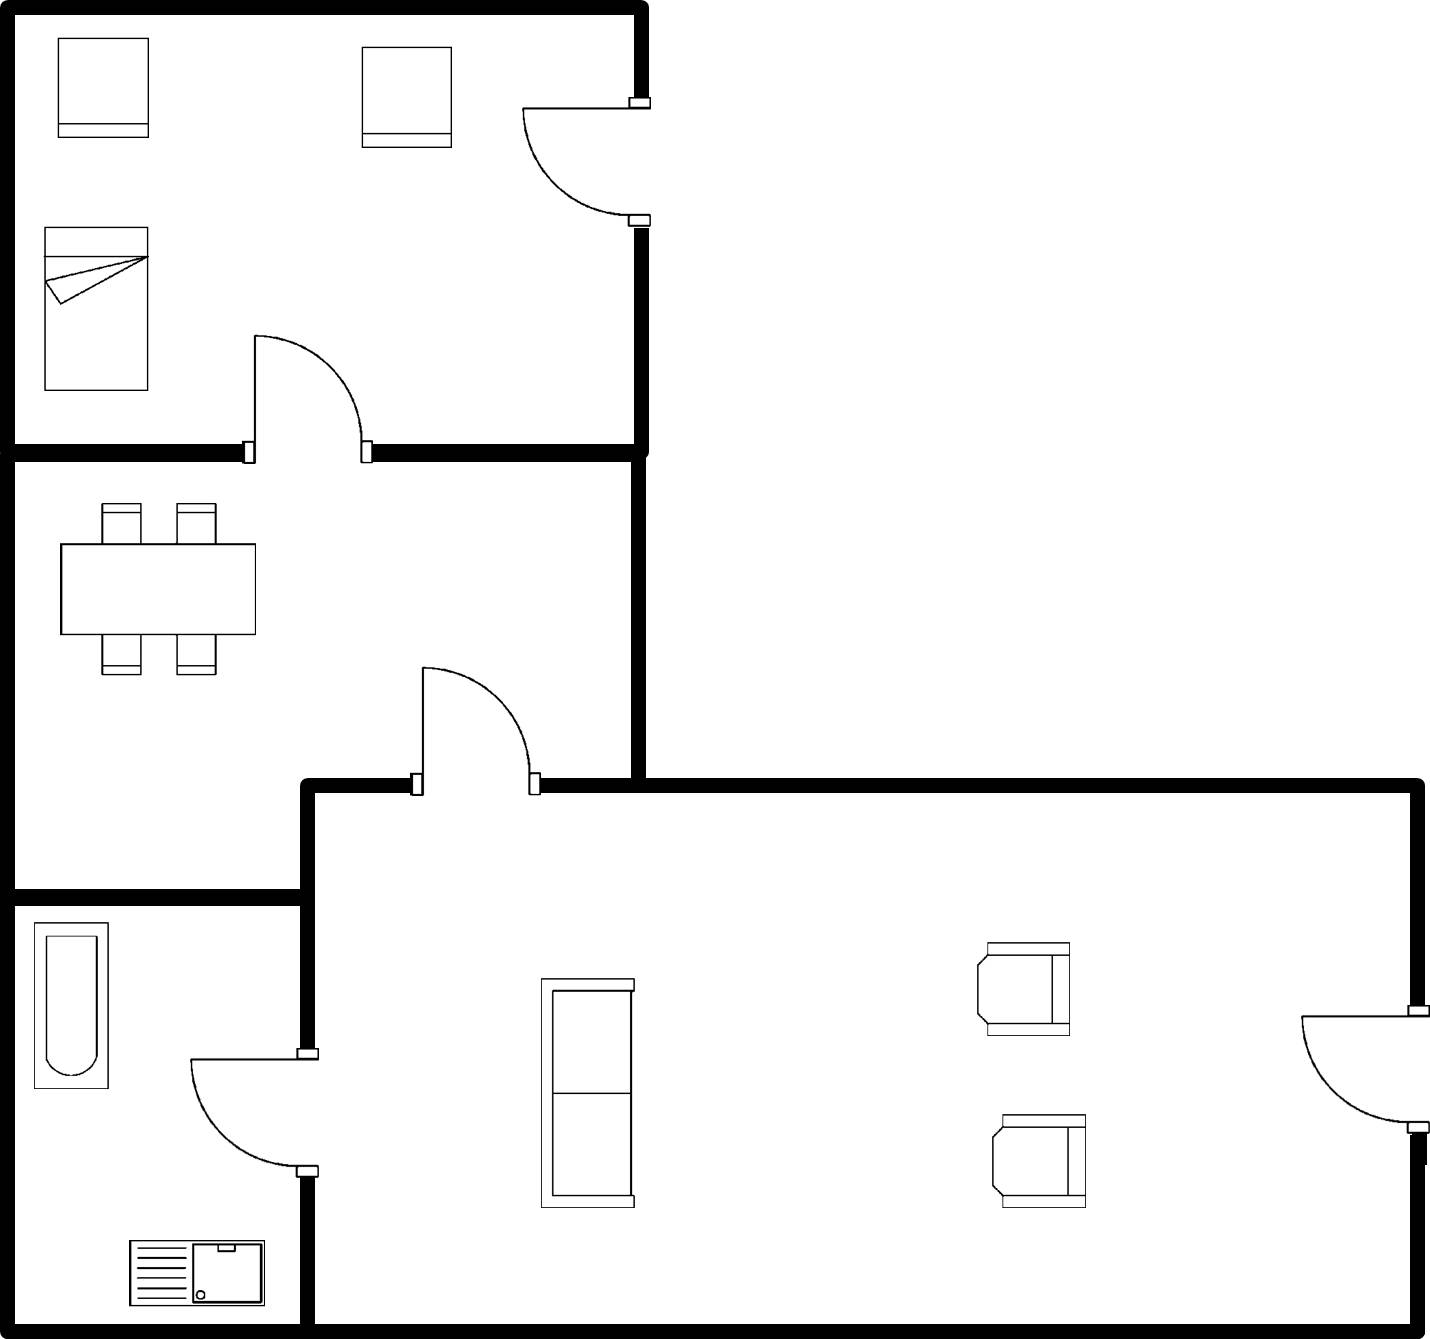armchair: (963, 931, 1081, 1046), (979, 1104, 1098, 1218)
bed: (33, 212, 161, 409)
dining_table: (48, 495, 265, 689)
large_sofa: (531, 967, 646, 1226)
sink: (120, 1233, 276, 1315)
small_sofa: (352, 41, 466, 164), (49, 30, 157, 148)
tub: (26, 912, 118, 1103)
